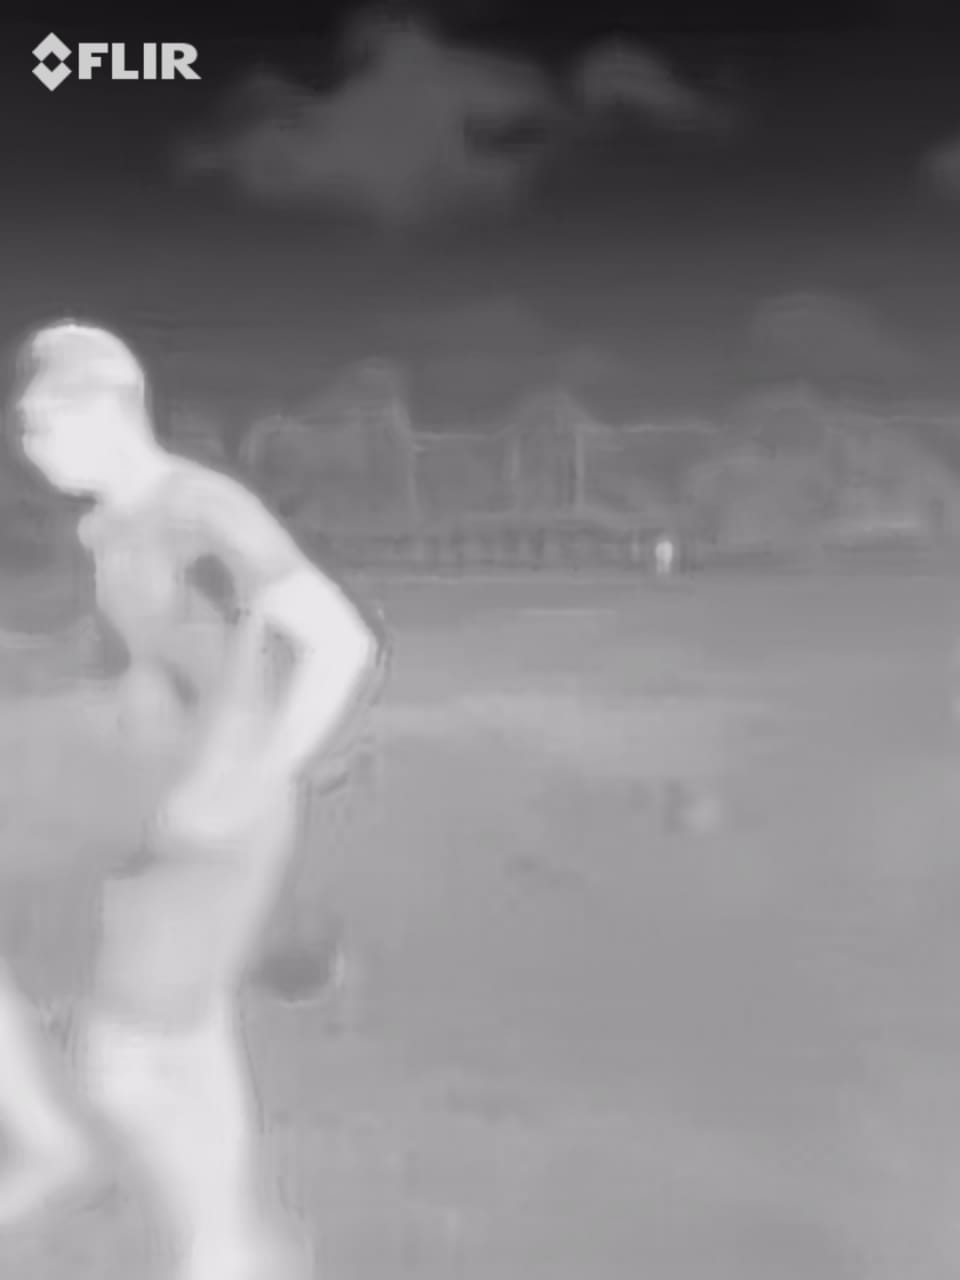head: (1, 300, 175, 498)
